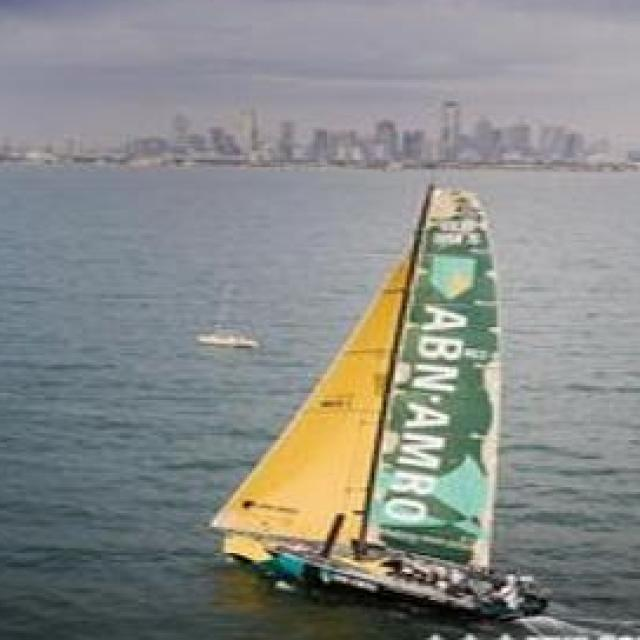sailboat: (218, 186, 554, 614)
